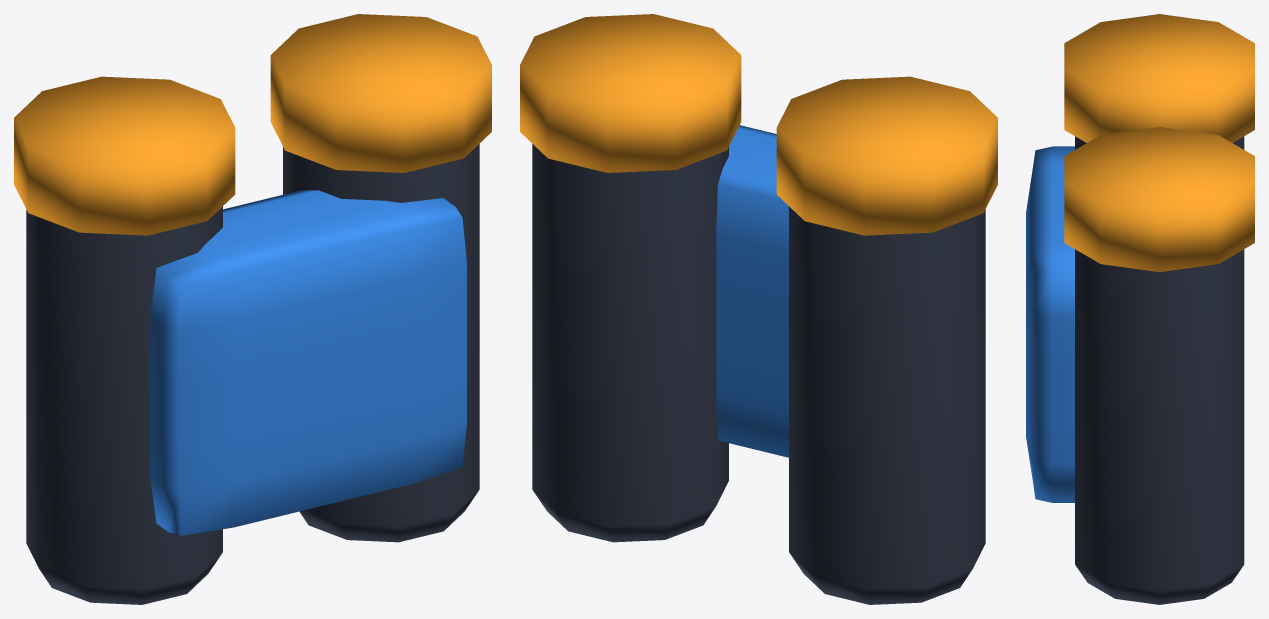
Rendered from core_volt.obj.
The picture shows the model from 3 angles, left to right: view 1: azimuth 30°, elevation 25°; view 2: azimuth 150°, elevation 25°; view 3: azimuth 270°, elevation 25°; orthographic projection. The views are drawn at different scales.
Bounding box in the file's own units: 0.42 × 0.4 × 0.2056.
